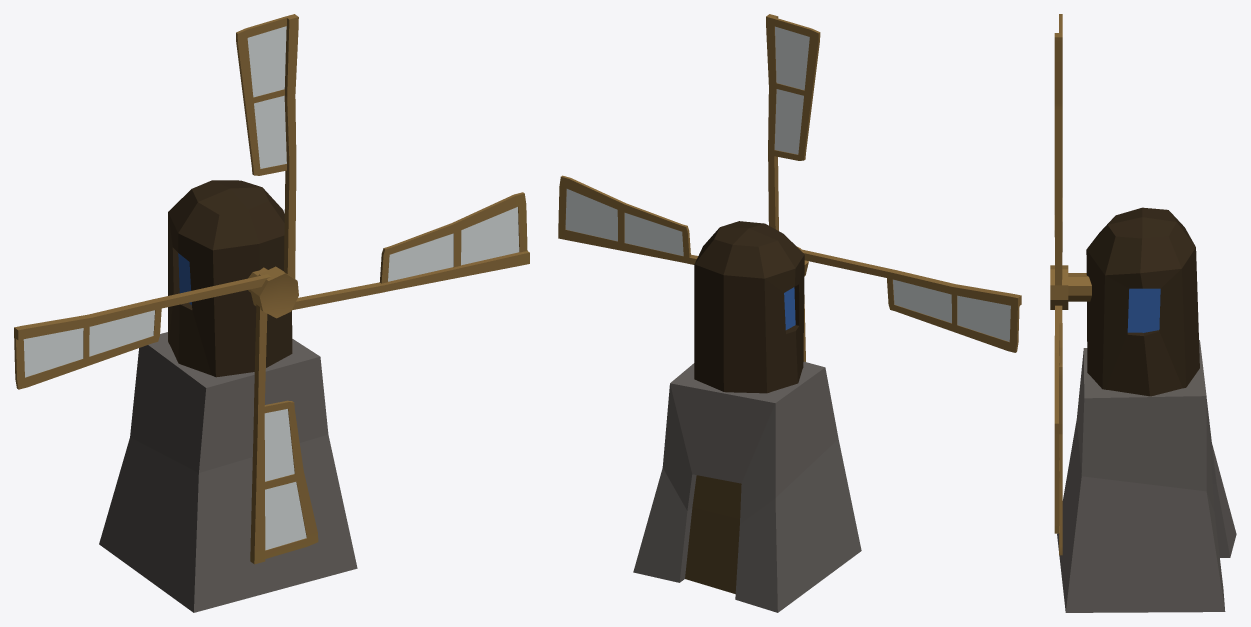
Rendered from Windmill_Ours.fbx.
3 views of the same model, side by side, from view 1: azimuth 30°, elevation 25°; view 2: azimuth 150°, elevation 25°; view 3: azimuth 270°, elevation 25° (orthographic). The views are drawn at different scales.
Parts seen in each view (by area): view 1: Windmill_House, Windmill_Wings; view 2: Windmill_House, Windmill_Wings; view 3: Windmill_House, Windmill_Wings.
Part boxes in pixels (x1,y1,x2,y2): Windmill_House: (99,180,357,612); Windmill_Wings: (14,14,529,564); Windmill_House: (633,221,861,612); Windmill_Wings: (558,14,1021,361); Windmill_House: (1057,207,1236,612); Windmill_Wings: (1050,14,1091,555).
Bounding box in the file's own units: 0.4526 × 0.4832 × 0.1495.
